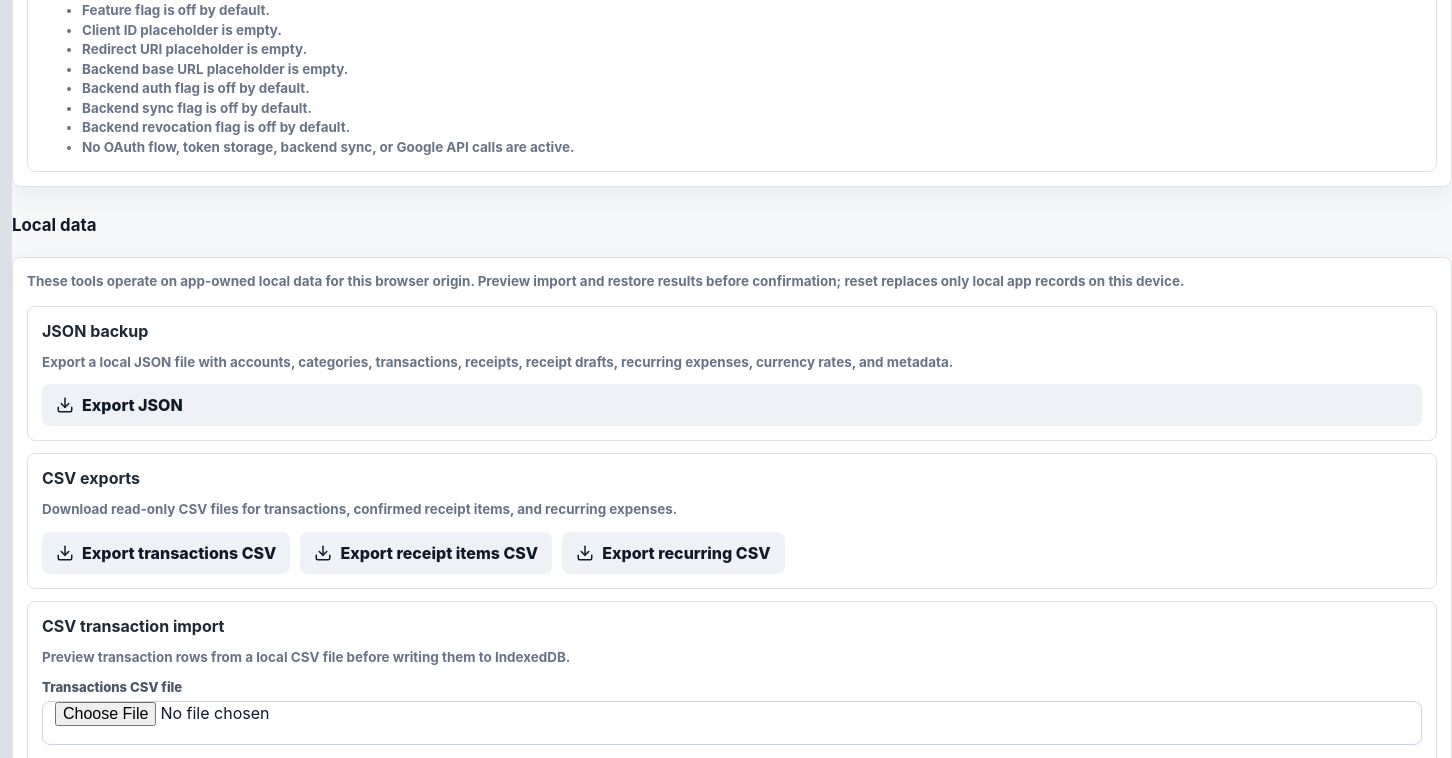
Test: SettingsPage local data tools › downloads a versioned JSON backup from the export action
The image size is (1452, 758).
(page scrolled)
Click the button "Export JSON" at (132, 405), box left=42, top=384, right=1422, bottom=426
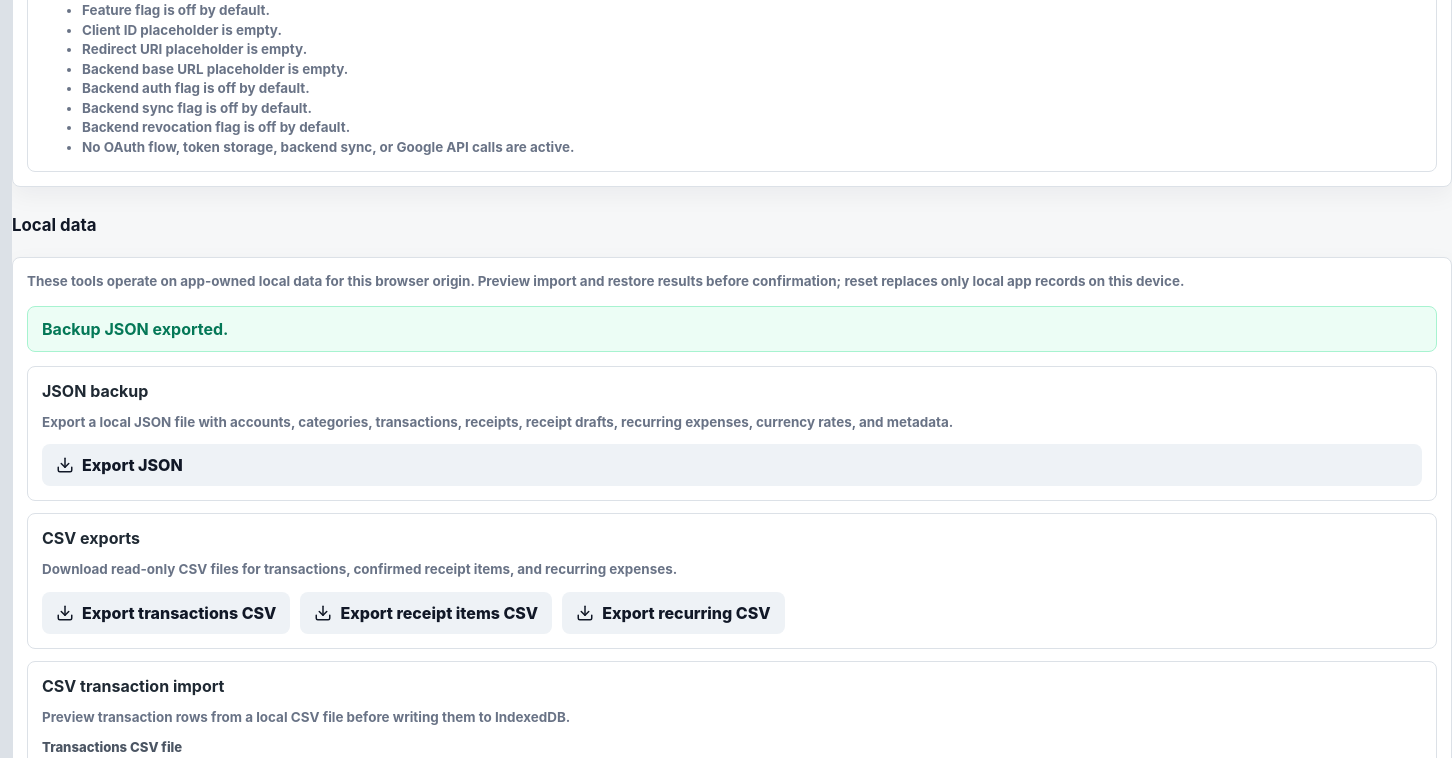
Expected: the message reads "Backup JSON exported.", left=42, top=319, right=228, bottom=339
